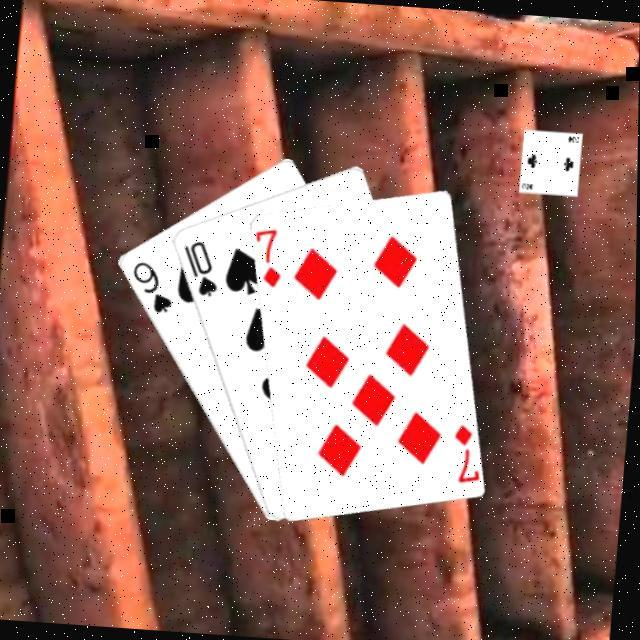10S: (179, 234, 226, 298)
7D: (252, 222, 290, 288), (450, 418, 486, 484)
9S: (128, 256, 180, 314)
